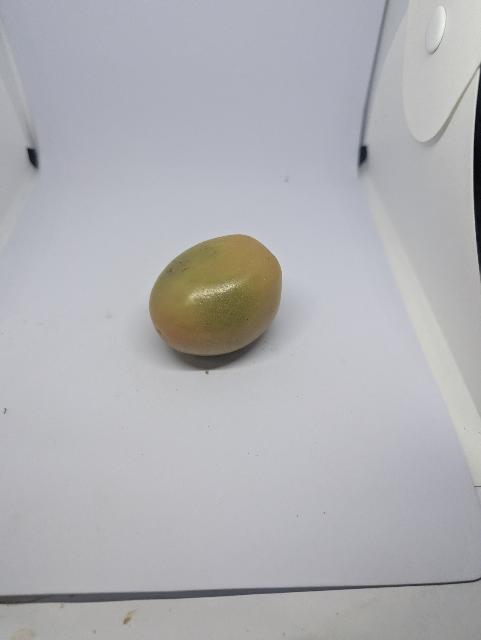breaker: (145, 231, 293, 369)
